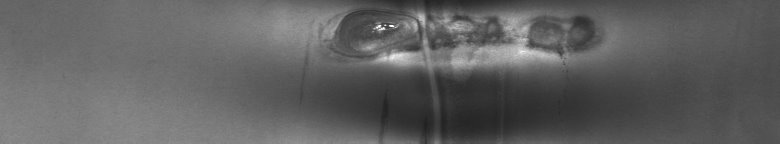ke: (305, 4, 602, 136)
